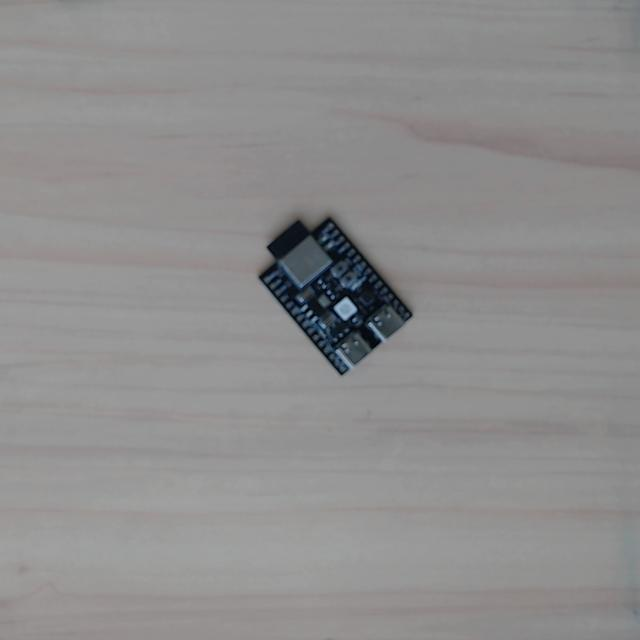ESP32C3-DevKit: (246, 201, 415, 377)
